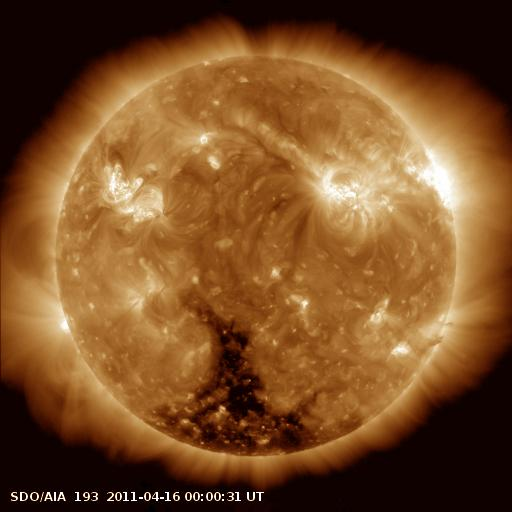coronal_hole: (140, 290, 365, 457)
